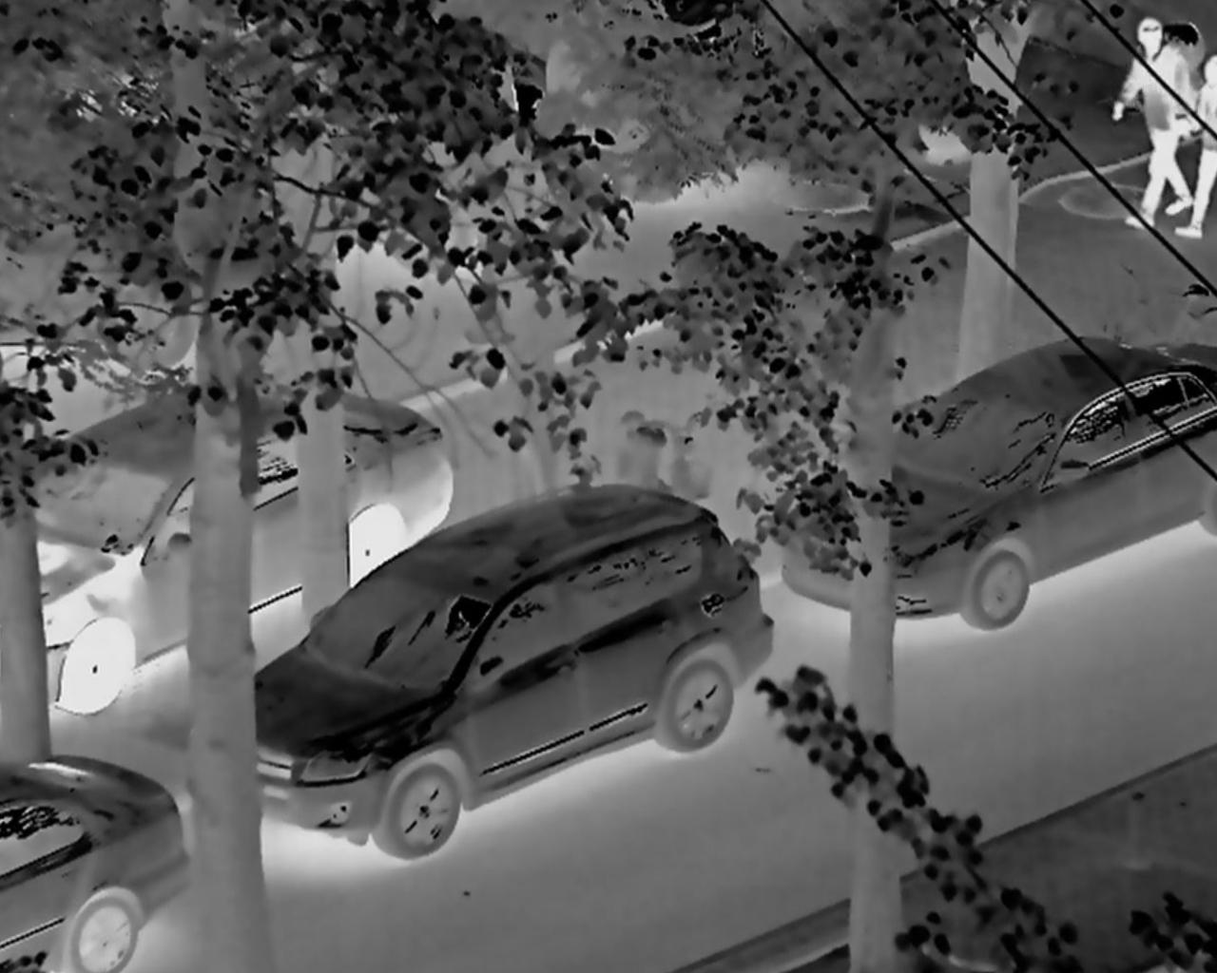person: (1106, 20, 1191, 234), (1181, 45, 1217, 254)
